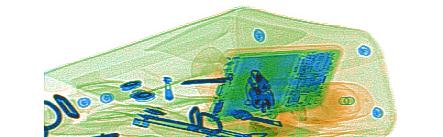plasticBottleWithaNozzle: (284, 77, 374, 122)
